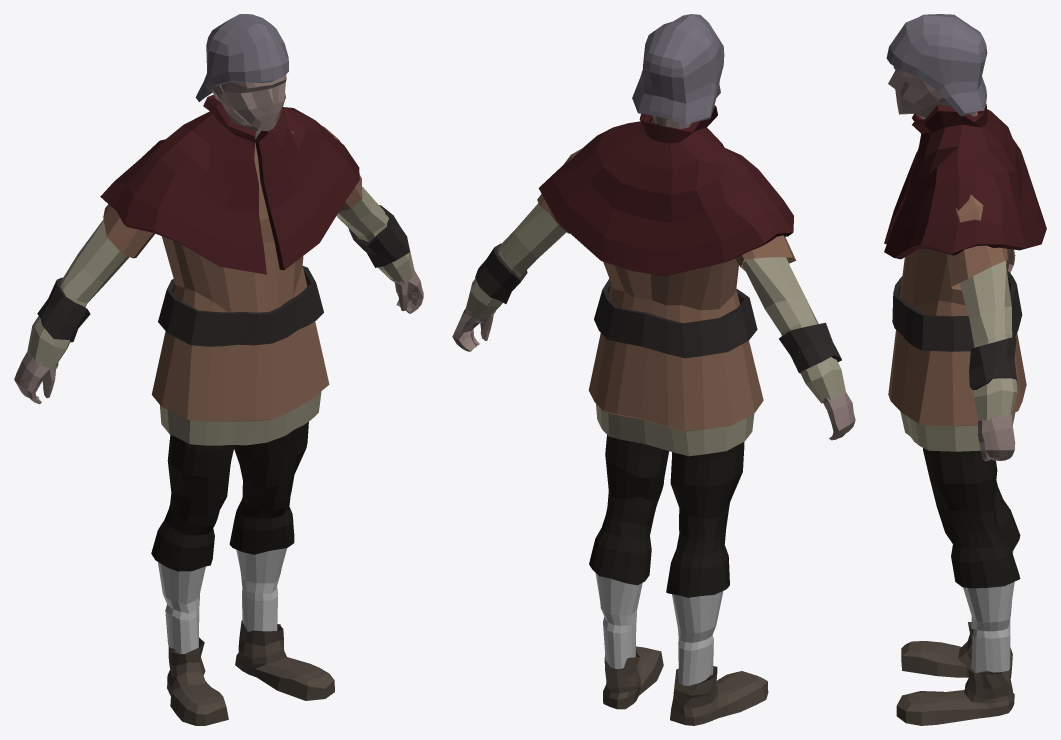
Rendered from human-enemy2-lo.fbx.
The picture shows the model from 3 angles, left to right: view 1: azimuth 30°, elevation 25°; view 2: azimuth 150°, elevation 25°; view 3: azimuth 270°, elevation 25°; orthographic projection.
Visible parts, largest first — view 1: HumanEnemy; view 2: HumanEnemy; view 3: HumanEnemy.
Part boxes in pixels (left/top/right/bottom): HumanEnemy: left=14, top=14, right=423, bottom=725; HumanEnemy: left=452, top=14, right=855, bottom=725; HumanEnemy: left=884, top=14, right=1046, bottom=725.
Size of the model in its own units: 1667 by 2714 by 593.
